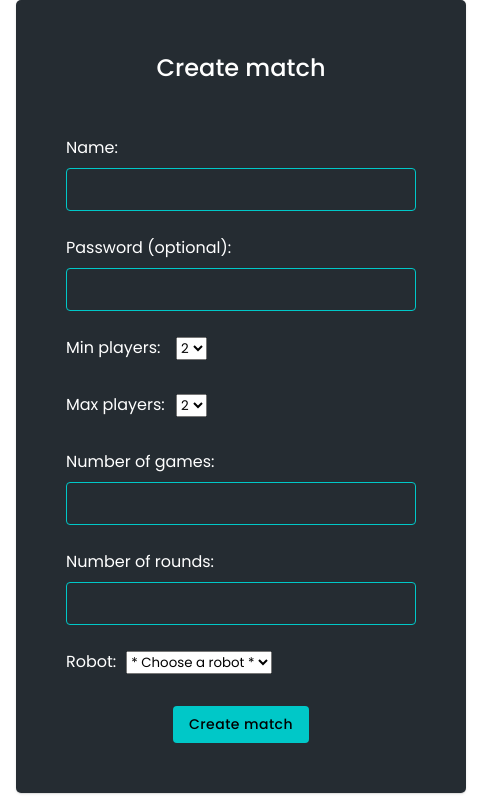
Scenario: Configuracion de partida test › 3. New match without number of games
Type "RocoloGames" into the field with test id "name".
click(241, 190); type("RocoloGames")  # box [66, 168, 416, 211]
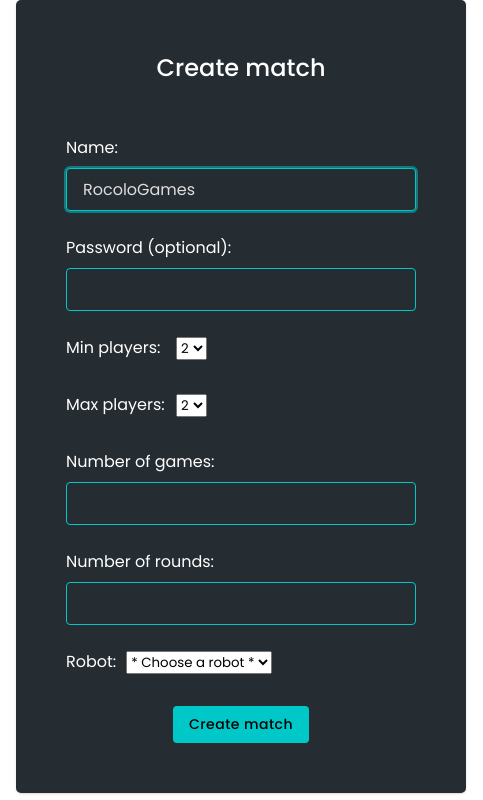
Type "UWU" into the password field with test id "password".
click(241, 290); type("UWU")  # box [66, 268, 416, 311]
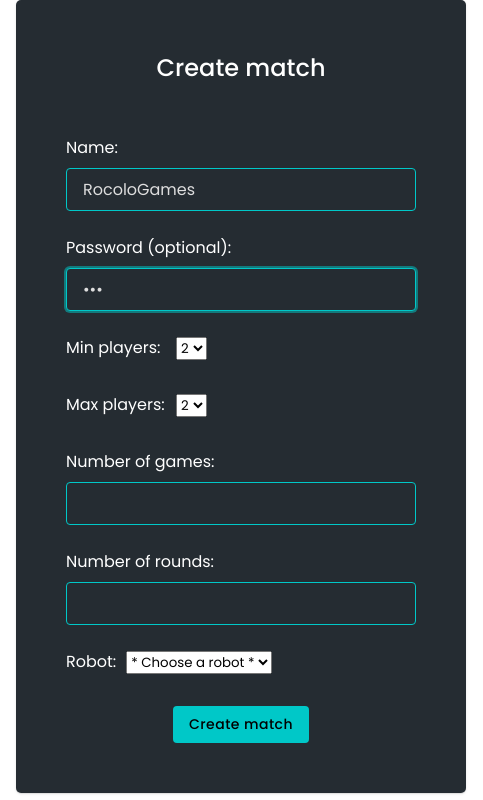
Select "2" in the dropdown with test id "minPlayers" at (192, 348), box [176, 337, 207, 360]
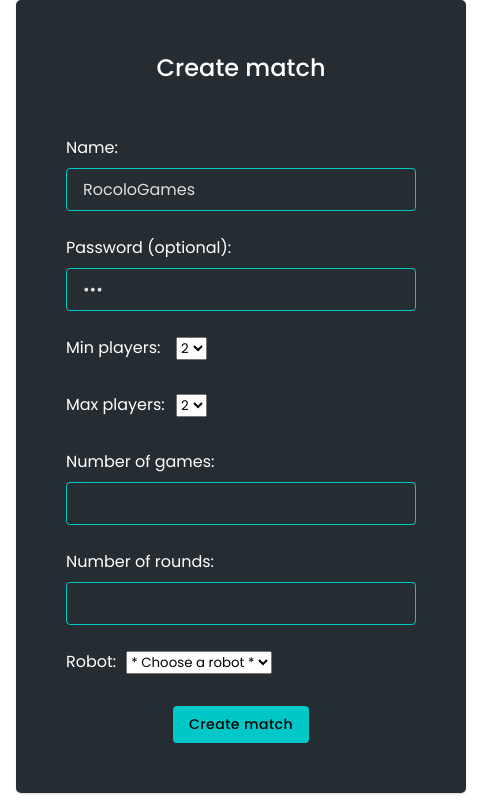
Select "2" in the dropdown with test id "maxPlayers" at (192, 406), box [176, 394, 207, 417]
Type "5" into the field with test id "nRounds".
click(241, 604); type("5")  # box [66, 582, 416, 625]
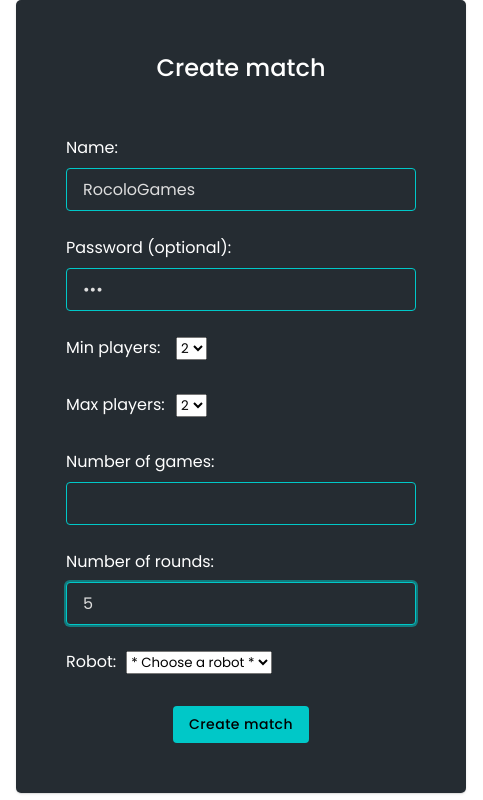
Select "Soyunrobot" in the dropdown with test id "nameRobot" at (199, 662), box [126, 651, 272, 674]
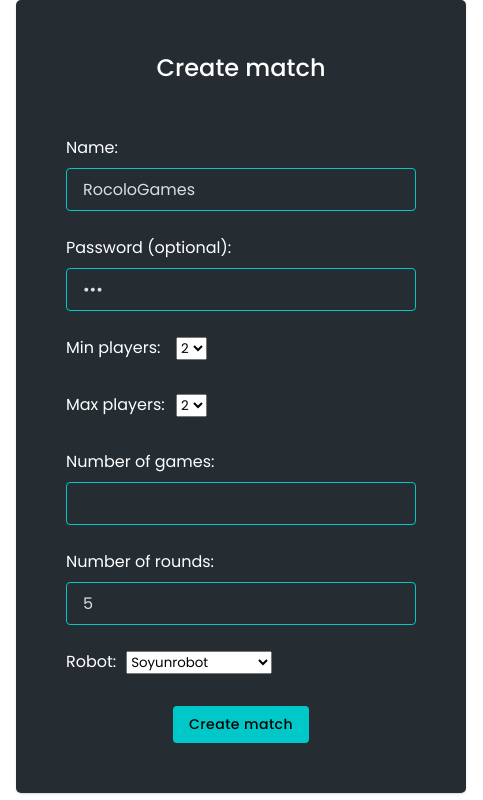
Click the button with test id "submit".
click(241, 724)  # box [173, 706, 309, 743]
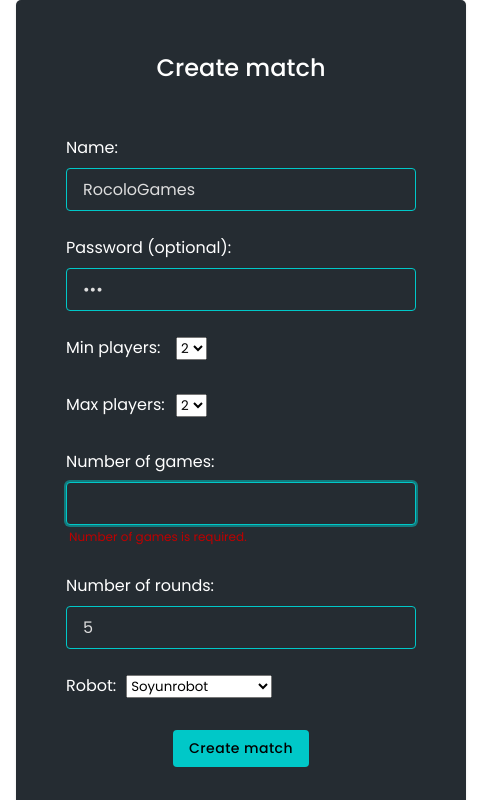
expect the text with test id "alertError" reads "Number of games is required.": met, box [69, 528, 247, 545]
